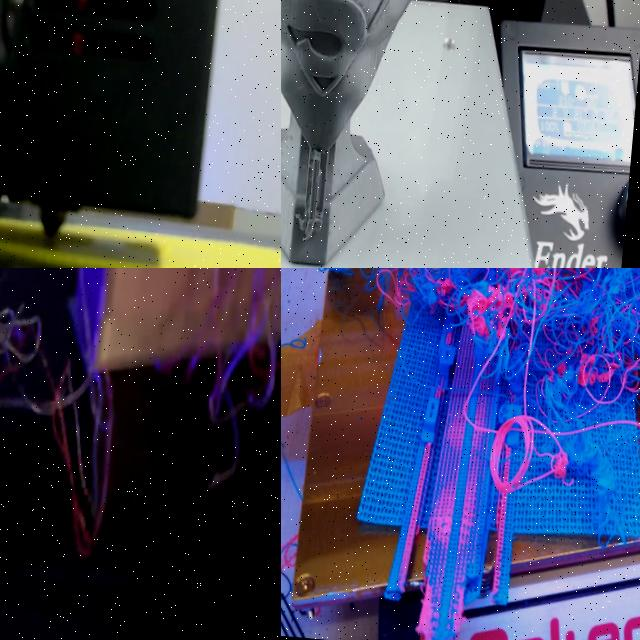spaghetti: (399, 268, 640, 618), (137, 268, 281, 505)
